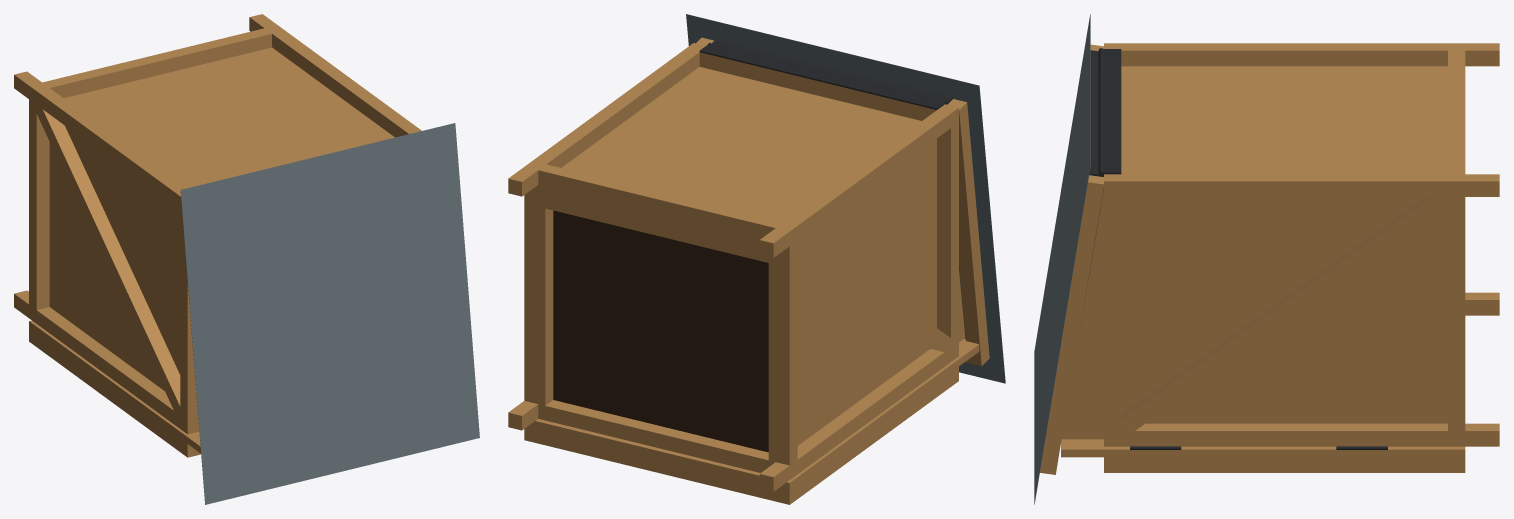
The model's file is .dass-closed.step.glb.
The picture shows the model from 3 angles, left to right: view 1: azimuth 30°, elevation 25°; view 2: azimuth 150°, elevation 25°; view 3: azimuth 270°, elevation 25°; orthographic projection. The views are drawn at different scales.
Visible parts, largest first — view 1: o1.29, o1.19, o1.17, o1.27, o1.6, o1.2, o1.1, o1.4, o1.7, o1.34, o1.8, o1.33; view 2: o1.20, o1.19, o1.17, o1.29, o1.2, o1.6, o1.4, o1.5, o1.1, o1.7, o1.33, o1.8 (+12 smaller); view 3: o1.18, o1.19, o1.4, o1.3, o1.29, o1.2, o1.28, o1.35, o1.33, o1.15, o1.9, o1.10 (+6 smaller).
Boxes of the visible parts, left/top/right/bottom form: o1.29: left=180, top=123, right=479, bottom=504; o1.19: left=64, top=48, right=394, bottom=188; o1.17: left=49, top=126, right=180, bottom=390; o1.27: left=36, top=105, right=180, bottom=414; o1.6: left=42, top=28, right=271, bottom=97; o1.2: left=14, top=71, right=186, bottom=210; o1.1: left=14, top=290, right=199, bottom=434; o1.4: left=249, top=14, right=421, bottom=137; o1.7: left=29, top=99, right=49, bottom=309; o1.34: left=29, top=328, right=200, bottom=457; o1.8: left=180, top=210, right=198, bottom=420; o1.33: left=29, top=320, right=200, bottom=453; o1.20: left=553, top=210, right=768, bottom=452; o1.19: left=538, top=67, right=921, bottom=245; o1.17: left=768, top=138, right=965, bottom=466; o1.29: left=686, top=14, right=1005, bottom=383; o1.2: left=759, top=104, right=958, bottom=257; o1.6: left=538, top=164, right=783, bottom=238; o1.4: left=508, top=43, right=705, bottom=196; o1.5: left=538, top=400, right=775, bottom=472; o1.1: left=759, top=342, right=958, bottom=491; o1.7: left=775, top=240, right=797, bottom=465; o1.33: left=528, top=340, right=979, bottom=490; o1.8: left=937, top=122, right=958, bottom=346; o1.18: left=1061, top=188, right=1447, bottom=439; o1.19: left=1121, top=66, right=1447, bottom=197; o1.4: left=1104, top=174, right=1499, bottom=196; o1.3: left=1104, top=423, right=1499, bottom=446; o1.29: left=1034, top=14, right=1090, bottom=504; o1.2: left=1104, top=43, right=1499, bottom=66; o1.28: left=1121, top=197, right=1447, bottom=430; o1.35: left=1104, top=457, right=1465, bottom=472; o1.33: left=1061, top=439, right=1465, bottom=457; o1.15: left=1042, top=197, right=1101, bottom=459; o1.9: left=1448, top=197, right=1465, bottom=430; o1.10: left=1104, top=197, right=1121, bottom=430.
Size of the model in its own units: 1.05 by 1.09 by 1.35.
